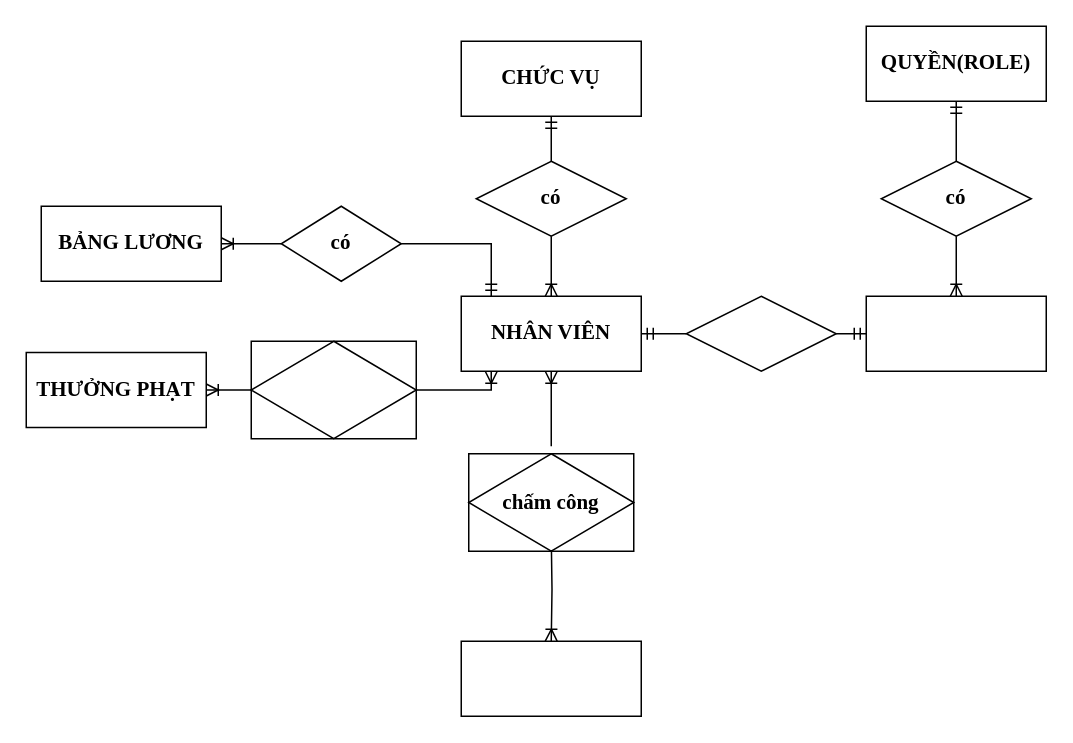
Image size: 1073x743. Some labels were removed from this diagram. Here are the shapes that lost their labels. From the top down, the box of each, then its label:
(685, 295, 836, 371): thuộc
(865, 295, 1046, 371): TÀI KHOẢN
(250, 340, 416, 439): chi tiết thưởng phạt
(460, 640, 641, 716): CA LÀM
